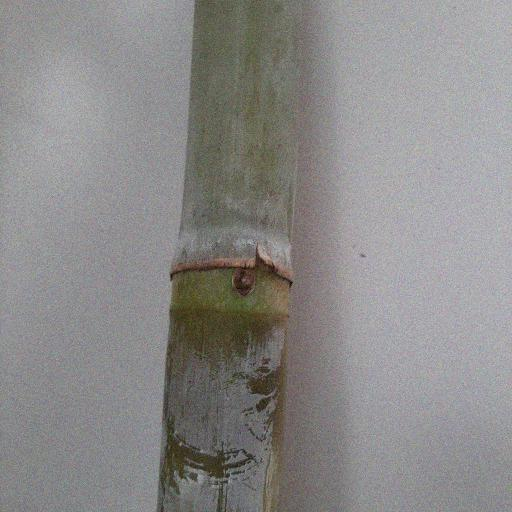Bud: (232, 269, 255, 297)
